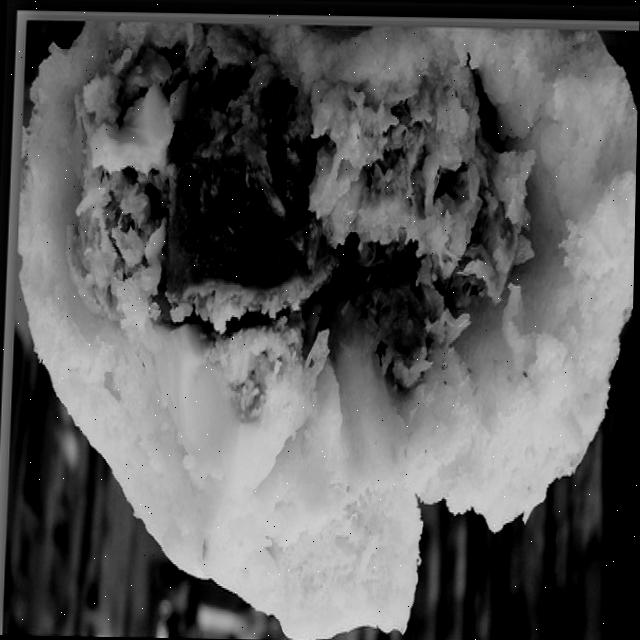带馅早点: (11, 25, 629, 640)
